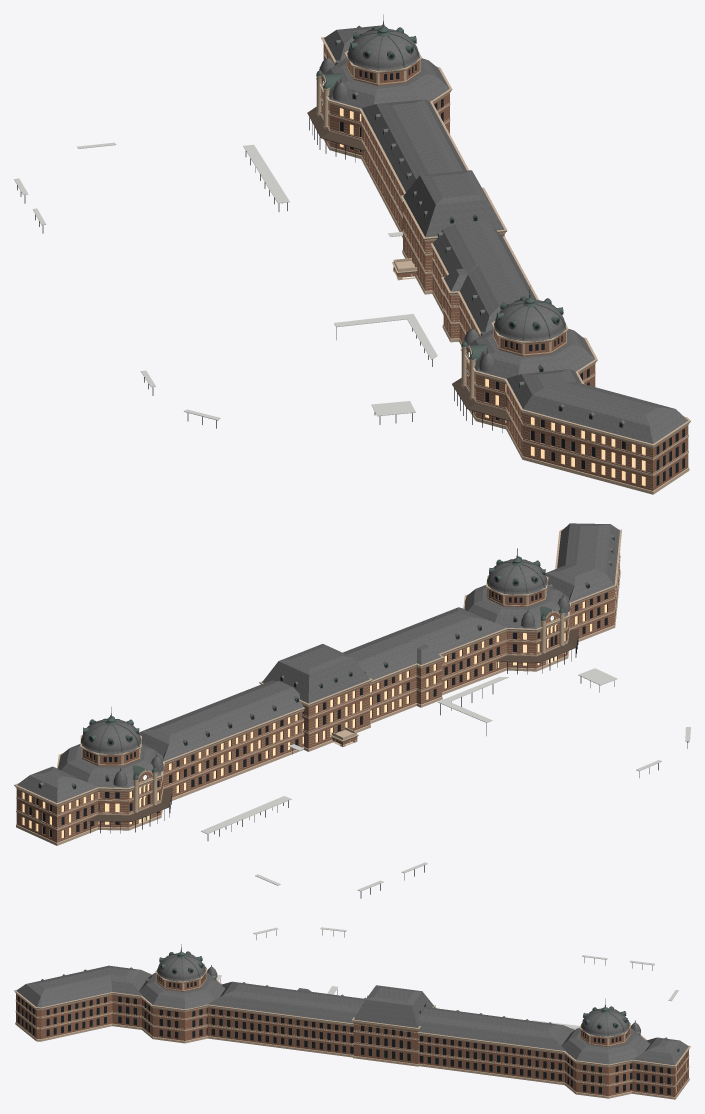
Rendered from marunouchi.glb.
3 renders of one model, top to bottom at view 1: azimuth 30°, elevation 25°; view 2: azimuth 150°, elevation 25°; view 3: azimuth 270°, elevation 25°, orthographic. The views are drawn at different scales.
Parts seen in each view (by area): view 1: marunouchi_roof_slate_c0_0, marunouchi_roof_slate_c1_2, marunouchi_roof_slate_c0_-1, marunouchi_roof_slate_c0_-3, marunouchi_roof_slate_c0_-2, marunouchi_roof_slate_c0_1, marunouchi_wall_brick_c-1_-3, marunouchi_roof_slate_c-1_-3, marunouchi_stone_cast_c-1_-3, marunouchi_stone_cast_c0_0, marunouchi_wall_brick_c1_2, marunouchi_roof_slate_c-1_-2 (+17 smaller); view 2: marunouchi_roof_slate_c0_0, marunouchi_roof_slate_c1_2, marunouchi_roof_slate_c0_1, marunouchi_roof_slate_c0_-1, marunouchi_stone_cast_c0_0, marunouchi_wall_brick_c0_0, marunouchi_wall_brick_c0_-1, marunouchi_wall_brick_c1_2, marunouchi_wall_brick_c0_1, marunouchi_roof_slate_c0_-3, marunouchi_roof_slate_c0_-2, marunouchi_stone_cast_c1_2 (+18 smaller); view 3: marunouchi_wall_brick_c1_0, marunouchi_roof_slate_c0_-1, marunouchi_roof_slate_c1_2, marunouchi_wall_brick_c0_-1, marunouchi_roof_slate_c0_0, marunouchi_wall_brick_c1_2, marunouchi_stone_cast_c1_0, marunouchi_roof_slate_c0_-2, marunouchi_roof_slate_c1_0, marunouchi_wall_brick_c0_-3, marunouchi_roof_slate_c0_-3, marunouchi_stone_cast_c0_-1 (+19 smaller).
Boxes of the visible parts, <box> form: marunouchi_roof_slate_c0_0: <box>377,106,504,303</box>; marunouchi_roof_slate_c1_2: <box>320,25,449,108</box>; marunouchi_roof_slate_c0_-1: <box>415,105,535,331</box>; marunouchi_roof_slate_c0_-3: <box>523,369,687,443</box>; marunouchi_roof_slate_c0_-2: <box>480,299,594,374</box>; marunouchi_roof_slate_c0_1: <box>362,103,475,273</box>; marunouchi_wall_brick_c-1_-3: <box>512,395,605,477</box>; marunouchi_roof_slate_c-1_-3: <box>507,372,647,425</box>; marunouchi_stone_cast_c-1_-3: <box>505,380,646,490</box>; marunouchi_stone_cast_c0_0: <box>360,110,507,314</box>; marunouchi_wall_brick_c1_2: <box>321,52,449,160</box>; marunouchi_roof_slate_c-1_-2: <box>464,315,521,378</box>; marunouchi_roof_slate_c0_0: <box>171,618,467,743</box>; marunouchi_roof_slate_c1_2: <box>30,719,167,802</box>; marunouchi_roof_slate_c0_1: <box>157,642,414,761</box>; marunouchi_roof_slate_c0_-1: <box>160,607,506,727</box>; marunouchi_stone_cast_c0_0: <box>175,663,416,799</box>; marunouchi_wall_brick_c0_0: <box>276,681,380,757</box>; marunouchi_wall_brick_c0_-1: <box>380,641,484,716</box>; marunouchi_wall_brick_c1_2: <box>69,745,172,837</box>; marunouchi_wall_brick_c0_1: <box>187,722,276,791</box>; marunouchi_roof_slate_c0_-3: <box>545,523,619,585</box>; marunouchi_roof_slate_c0_-2: <box>458,559,558,627</box>; marunouchi_stone_cast_c1_2: <box>14,735,168,845</box>; marunouchi_wall_brick_c1_0: <box>234,1030,564,1082</box>; marunouchi_roof_slate_c0_-1: <box>208,981,550,1038</box>; marunouchi_roof_slate_c1_2: <box>561,1008,679,1065</box>; marunouchi_wall_brick_c0_-1: <box>207,1007,531,1049</box>; marunouchi_roof_slate_c0_0: <box>245,985,545,1029</box>; marunouchi_wall_brick_c1_2: <box>565,1025,674,1096</box>; marunouchi_stone_cast_c1_0: <box>217,1007,566,1085</box>; marunouchi_roof_slate_c0_-2: <box>139,953,245,1009</box>; marunouchi_roof_slate_c1_0: <box>211,996,565,1050</box>; marunouchi_wall_brick_c0_-3: <box>18,995,142,1038</box>; marunouchi_roof_slate_c0_-3: <box>26,966,142,1007</box>; marunouchi_stone_cast_c0_-1: <box>207,1004,551,1081</box>.
Size of the model in its own units: 176 by 40.4 by 302.
Materials: 13 (3 with a texture image).
